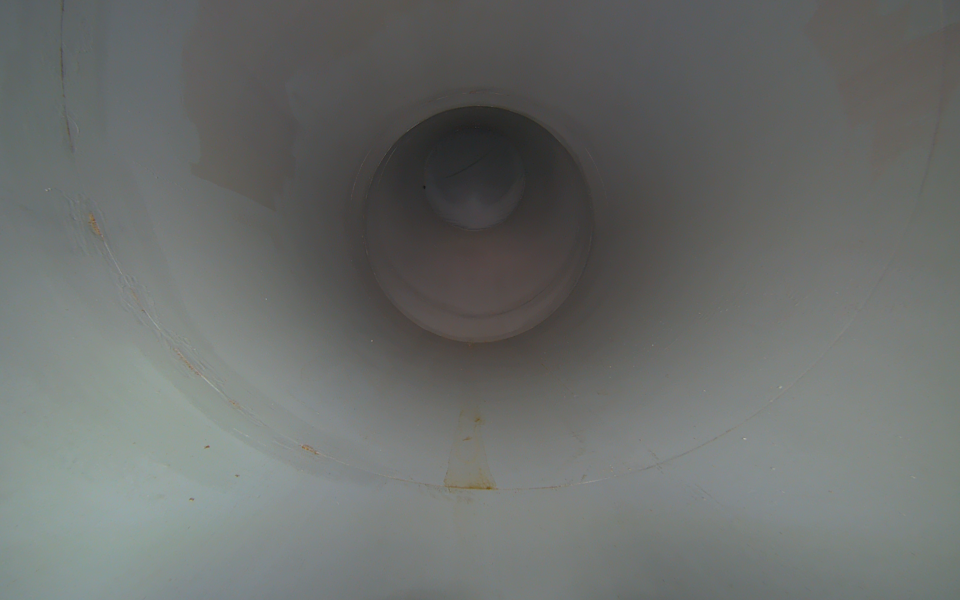circle1: (357, 106, 596, 343)
circle2: (427, 128, 524, 224)
